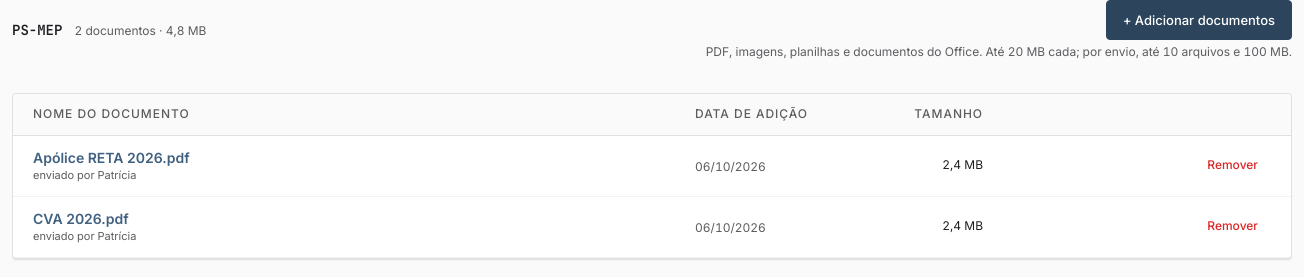
Scenario: PaginaDeDocumentos › a remoção em andamento de uma linha não ocupa nem fecha a confirmação de outra
The image size is (1304, 277).
Step 1. Click the button with aria-label "Remover Apólice RETA 2026.pdf" → point(1233, 166), box [1194,144,1271,188]
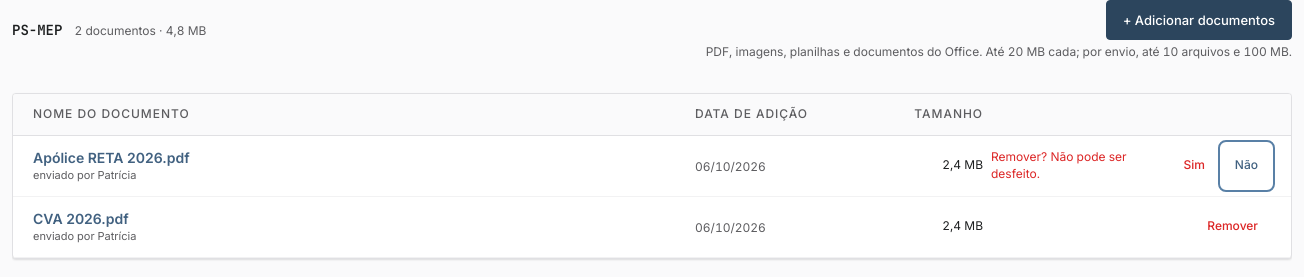
Step 2. Click the button with aria-label "Sim, remover Apólice RETA 2026.pdf" → point(1194, 166), box [1170,144,1218,188]
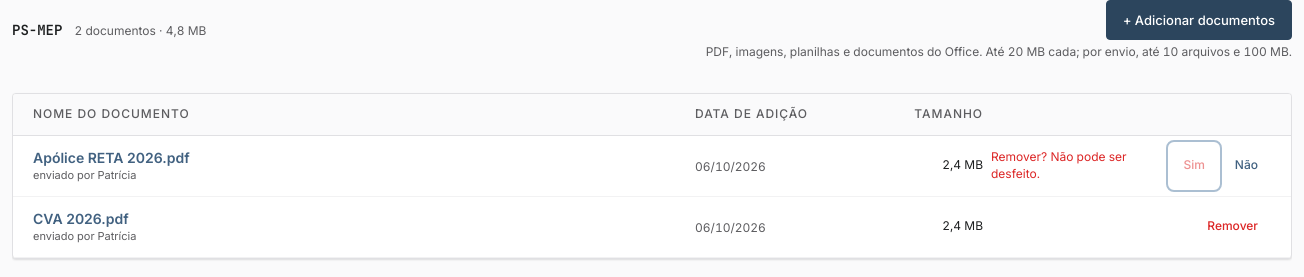
Step 3. Click the button with aria-label "Remover CVA 2026.pdf" → point(1233, 227), box [1194,205,1271,249]
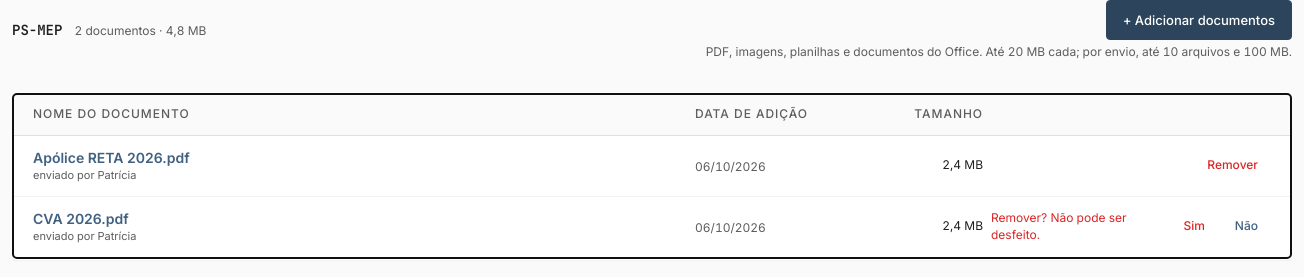
Check: the button with aria-label "Sim, remover CVA 2026.pdf" is shown, box [1170,205,1218,249]
